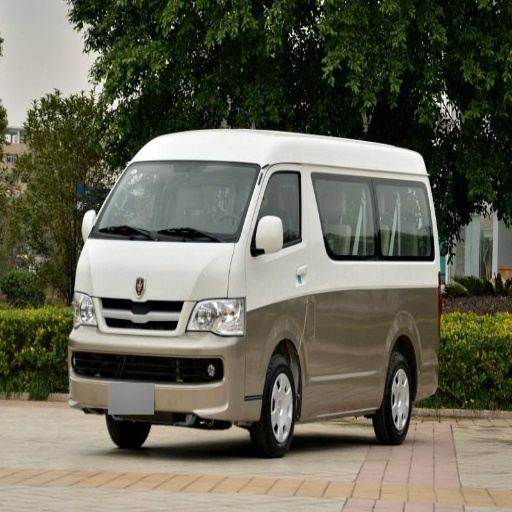front_bumper: (70, 278, 266, 421)
front_glass: (92, 160, 259, 243)
front_left_door: (250, 166, 310, 299)
trunk: (310, 264, 438, 394)
